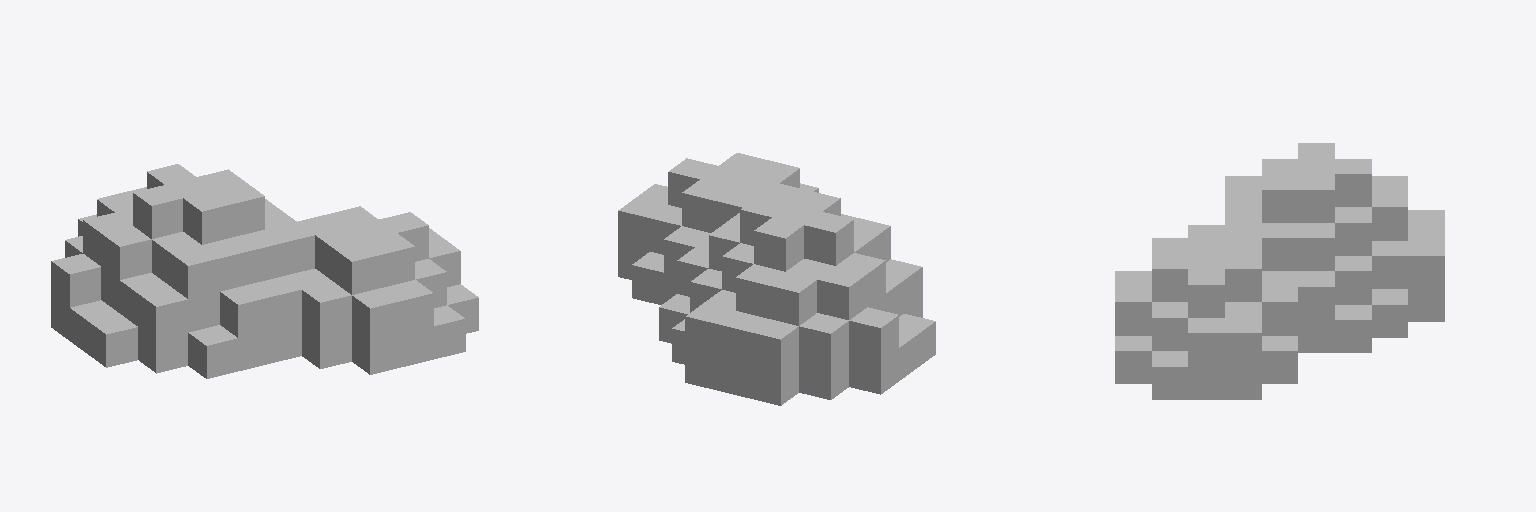
Rendered from bush1.vox.obj.
3 renders of one model, left to right at view 1: azimuth 30°, elevation 25°; view 2: azimuth 150°, elevation 25°; view 3: azimuth 270°, elevation 25°, orthographic.
Parts seen in each view (by area): view 1: object 1; view 2: object 1; view 3: object 1.
Boxes of the visible parts, x1,y1,x2,y2 form: object 1: [51, 164, 478, 378]; object 1: [618, 153, 935, 405]; object 1: [1115, 143, 1444, 399].
Size of the model in its own units: 1 by 0.4 by 0.9.